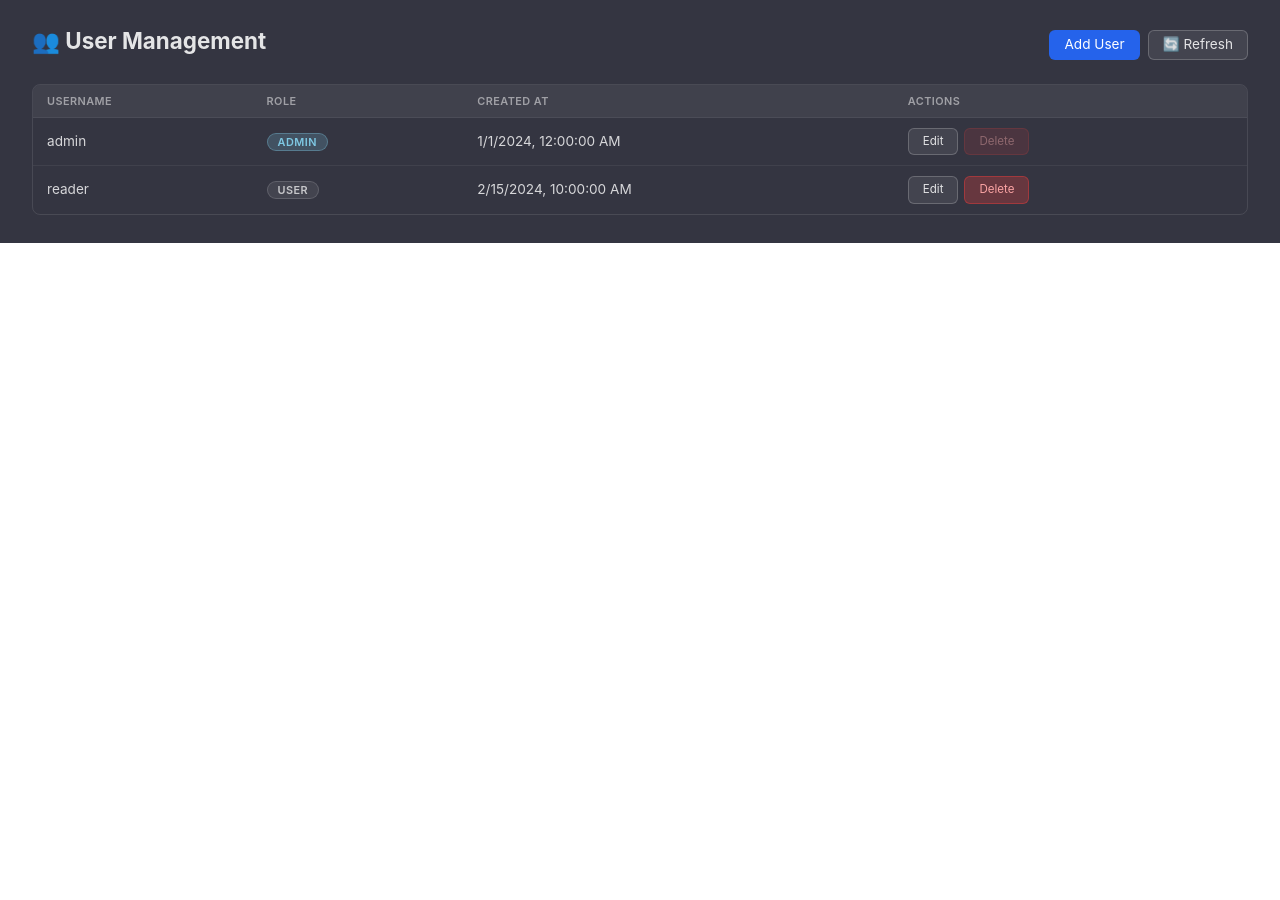
Test case: UserManagementPage › opens the edit user modal when edit is clicked
expect the text "reader" is shown: met, box [33,166,253,214]
Click the button "Edit" in the row of "reader".
click(933, 190)  # box [908,176,958,204]
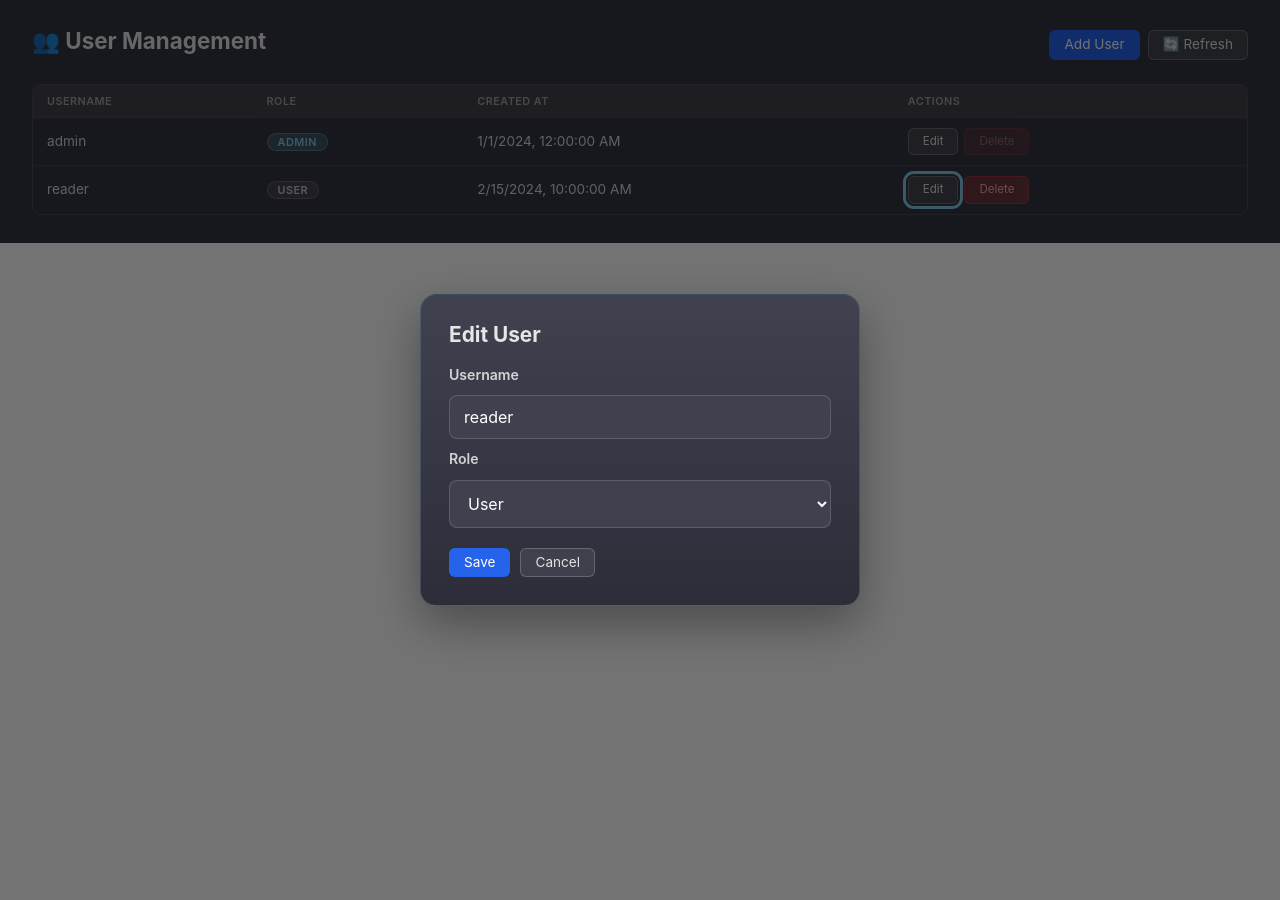
expect the dialog is shown: met, box [420,294,860,606]
expect the field labelled "Username" holds "reader": met, box [449,395,831,439]
